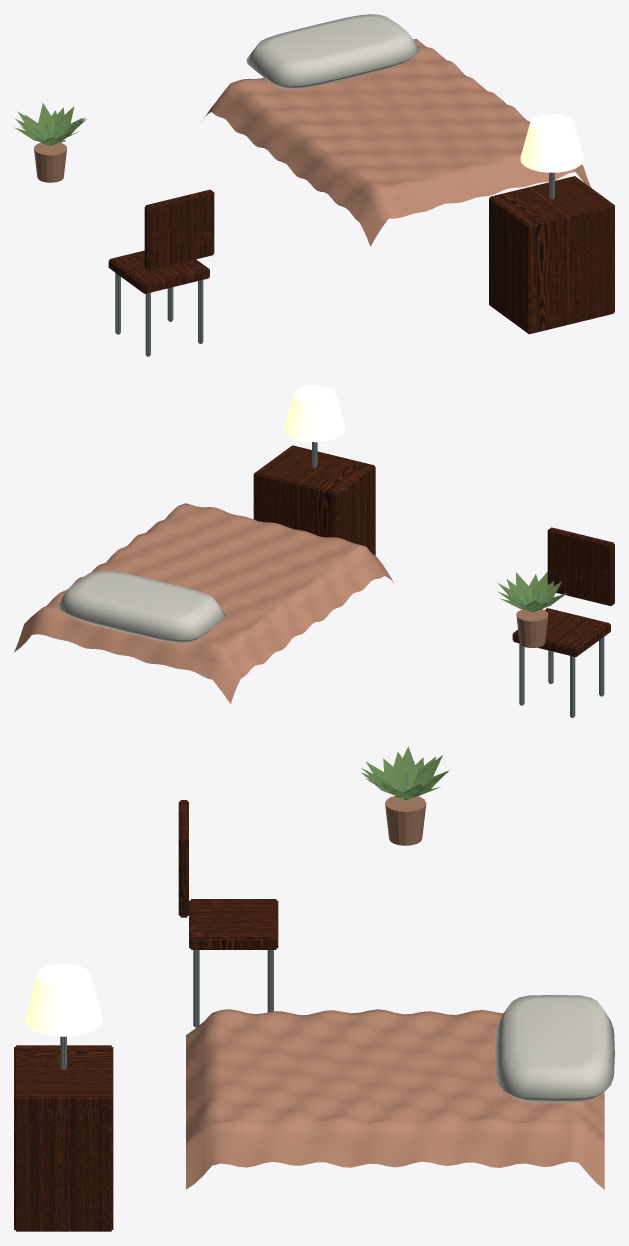
Rendered from room-upgrade.glb.
3 renders of one model, top to bottom at view 1: azimuth 30°, elevation 25°; view 2: azimuth 150°, elevation 25°; view 3: azimuth 270°, elevation 25°, orthographic. The views are drawn at different scales.
Parts seen in each view (by area): view 1: upgrade_terracotta, upgrade_wood, upgrade_linen, upgrade_lamp, upgrade_leaf, upgrade_steel, upgrade_clay; view 2: upgrade_terracotta, upgrade_wood, upgrade_linen, upgrade_lamp, upgrade_leaf, upgrade_steel, upgrade_clay; view 3: upgrade_terracotta, upgrade_wood, upgrade_linen, upgrade_lamp, upgrade_leaf, upgrade_clay, upgrade_steel.
Boxes of the visible parts, bbox=[...] form: upgrade_terracotta: bbox=[204, 39, 591, 246]; upgrade_wood: bbox=[108, 176, 614, 334]; upgrade_linen: bbox=[246, 14, 419, 89]; upgrade_lamp: bbox=[520, 113, 583, 172]; upgrade_leaf: bbox=[14, 103, 86, 144]; upgrade_steel: bbox=[115, 172, 554, 356]; upgrade_clay: bbox=[34, 142, 67, 182]; upgrade_terracotta: bbox=[14, 503, 394, 703]; upgrade_wood: bbox=[253, 445, 614, 656]; upgrade_linen: bbox=[58, 570, 225, 642]; upgrade_lamp: bbox=[284, 385, 345, 442]; upgrade_leaf: bbox=[497, 572, 567, 611]; upgrade_steel: bbox=[312, 442, 604, 717]; upgrade_clay: bbox=[516, 609, 548, 647]; upgrade_terracotta: bbox=[186, 1009, 604, 1189]; upgrade_wood: bbox=[14, 800, 278, 1231]; upgrade_linen: bbox=[494, 995, 614, 1102]; upgrade_lamp: bbox=[24, 963, 102, 1036]; upgrade_leaf: bbox=[361, 746, 448, 798]; upgrade_clay: bbox=[385, 795, 426, 845]; upgrade_steel: bbox=[60, 950, 273, 1069].
Bounding box in the file's own units: 3.35 × 1.23 × 2.9.
Materials: 8 (1 with a texture image).
